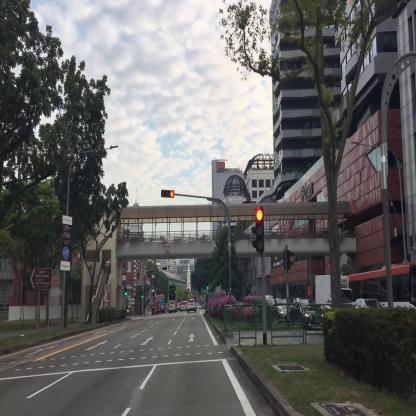red_traffic_light: (254, 205, 264, 250), (162, 188, 174, 198)
